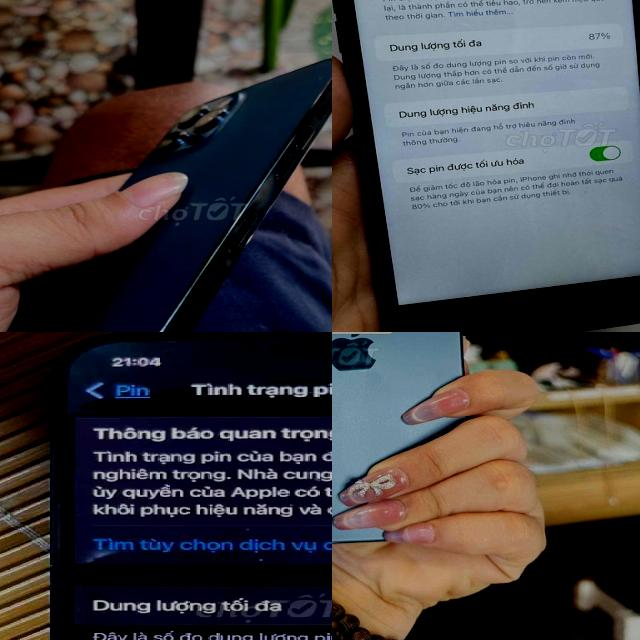gen_12_13: (0, 53, 332, 332), (37, 332, 332, 640), (332, 332, 483, 551)
gen_7_8: (332, 0, 640, 332)
scratch: (364, 206, 388, 307)
